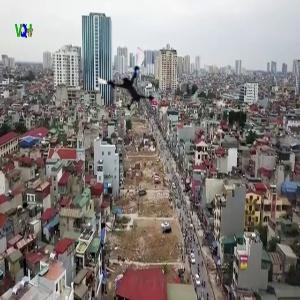drone: (97, 53, 160, 116)
